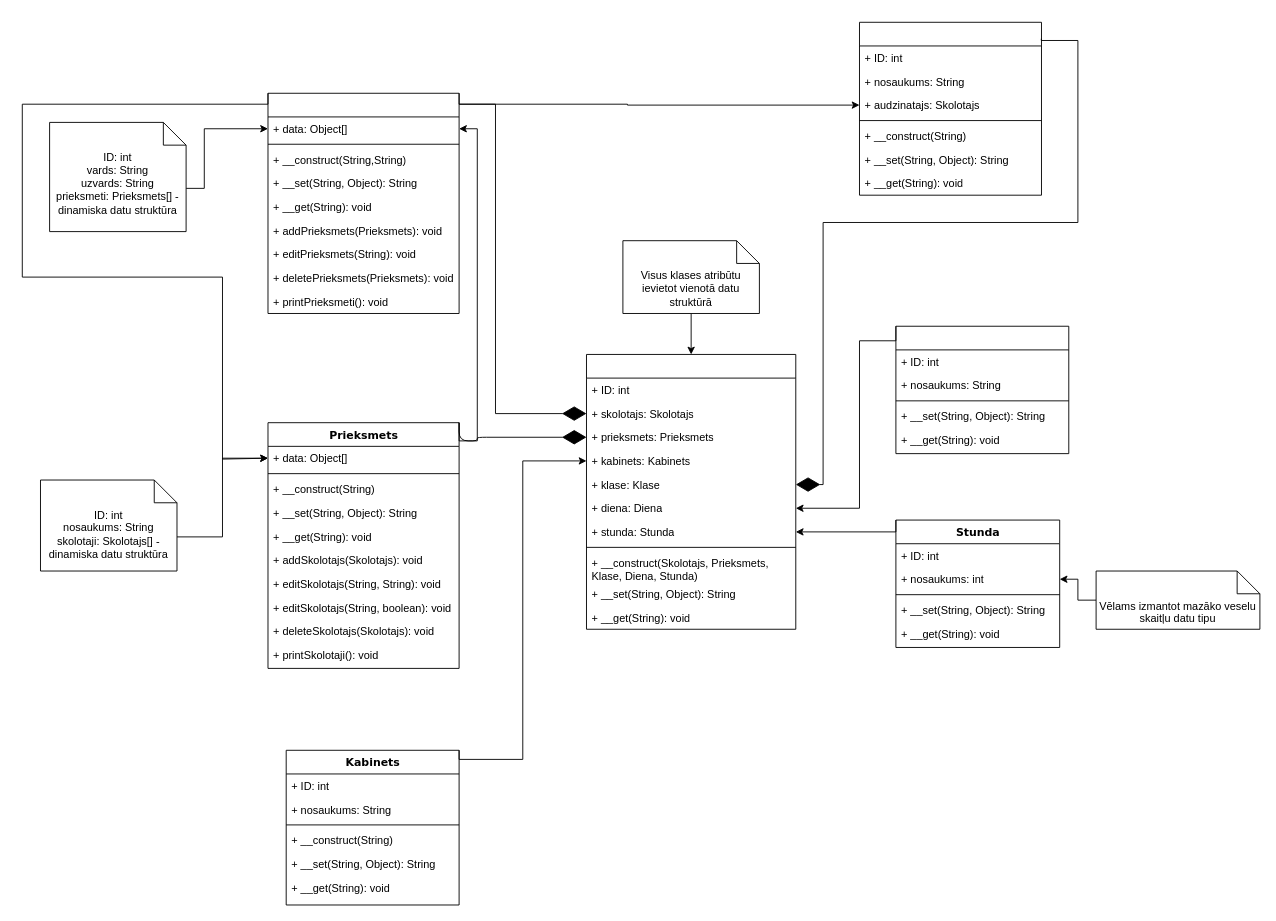
This 1276x921 diagram has some shape labels left out. The shapes that lost their labels are listed below. From the top down, each one's box as (x1, y1, x2, y2) in pixels, then its label:
(859, 21, 1041, 195): Klase
(267, 92, 459, 313): Skolotajs
(895, 325, 1069, 454): Diena
(586, 354, 796, 629): Nodarbiba
